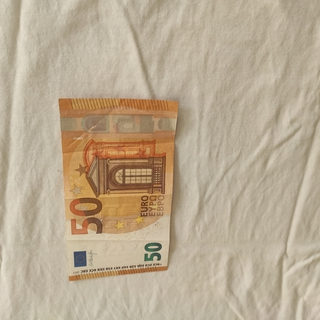50EUROFront: (57, 96, 178, 281)
